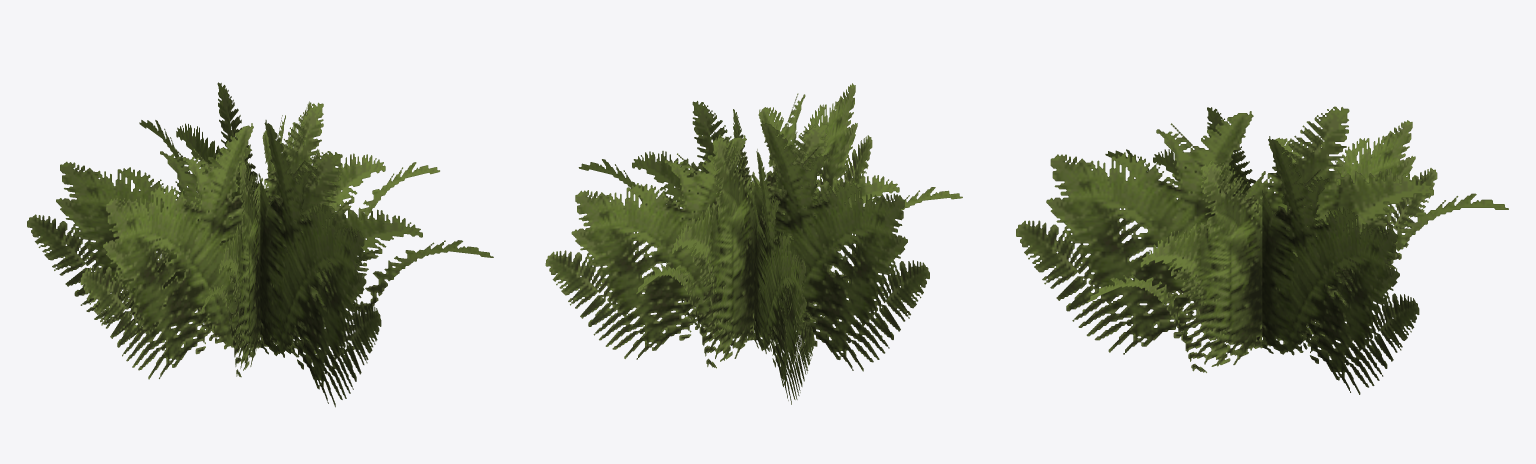
The model's file is fernLOW.fbx.
3 views of the same model, side by side, from view 1: azimuth 30°, elevation 25°; view 2: azimuth 150°, elevation 25°; view 3: azimuth 270°, elevation 25° (orthographic). The views are drawn at different scales.
Parts seen in each view (by area): view 1: fern; view 2: fern; view 3: fern.
Part boxes in pixels (box(x1,y1,x2,y2)): fern: box(27, 82, 493, 407); fern: box(545, 83, 962, 404); fern: box(1016, 106, 1508, 394).
Size of the model in its own units: 59.25 by 69.05 by 37.17.
1 material, 1 textured.
